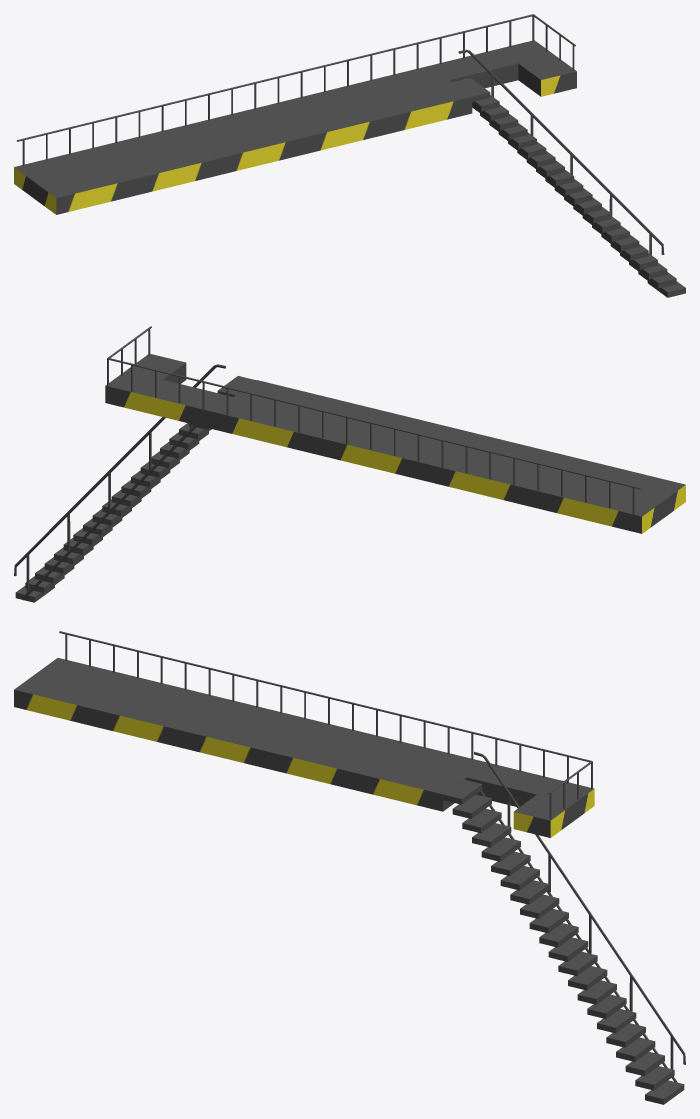
File: stepenice 1.fbx
The picture shows the model from 3 angles, top to bottom: view 1: azimuth 30°, elevation 25°; view 2: azimuth 150°, elevation 25°; view 3: azimuth 330°, elevation 25°; orthographic projection. The views are drawn at different scales.
Parts seen in each view (by area): view 1: Cube.042, Cube.039, Cube.043, Cube.035, Cube.040, Cylinder.007, Cylinder.005, Cylinder.001; view 2: Cube.039, Cube.040, Cube.035, Cube.042, Cube.043, Cylinder.007, Cylinder.005, Cylinder.001, Cylinder, Cylinder.002; view 3: Cube.035, Cube.042, Cube.039, Cube.043, Cube.040, Cylinder.007, Cylinder.005, Cylinder.001.
Boxes of the visible parts, x1,y1,x2,y2 form: Cube.042: [206, 80, 472, 172]; Cube.039: [186, 40, 576, 139]; Cube.043: [33, 140, 227, 214]; Cube.035: [453, 78, 685, 297]; Cube.040: [14, 125, 205, 197]; Cylinder.007: [22, 16, 534, 165]; Cylinder.005: [16, 14, 533, 141]; Cylinder.001: [458, 49, 664, 254]; Cube.039: [105, 354, 484, 490]; Cube.040: [465, 458, 662, 533]; Cube.035: [15, 376, 255, 602]; Cube.042: [234, 380, 508, 458]; Cube.043: [486, 441, 685, 518]; Cylinder.007: [107, 359, 634, 514]; Cylinder.005: [107, 357, 640, 489]; Cylinder.001: [14, 364, 225, 576]; Cylinder: [21, 425, 197, 600]; Cylinder.002: [26, 423, 192, 593]; Cube.035: [443, 779, 684, 1104]; Cube.042: [191, 716, 466, 811]; Cube.039: [215, 701, 594, 837]; Cube.043: [14, 672, 213, 749]; Cube.040: [38, 658, 233, 715]; Cylinder.007: [65, 634, 592, 789]; Cylinder.005: [59, 631, 591, 762]; Cylinder.001: [474, 751, 685, 1064].
Size of the model in its own units: 2579 by 1082 by 302.
1 material, 1 textured.
